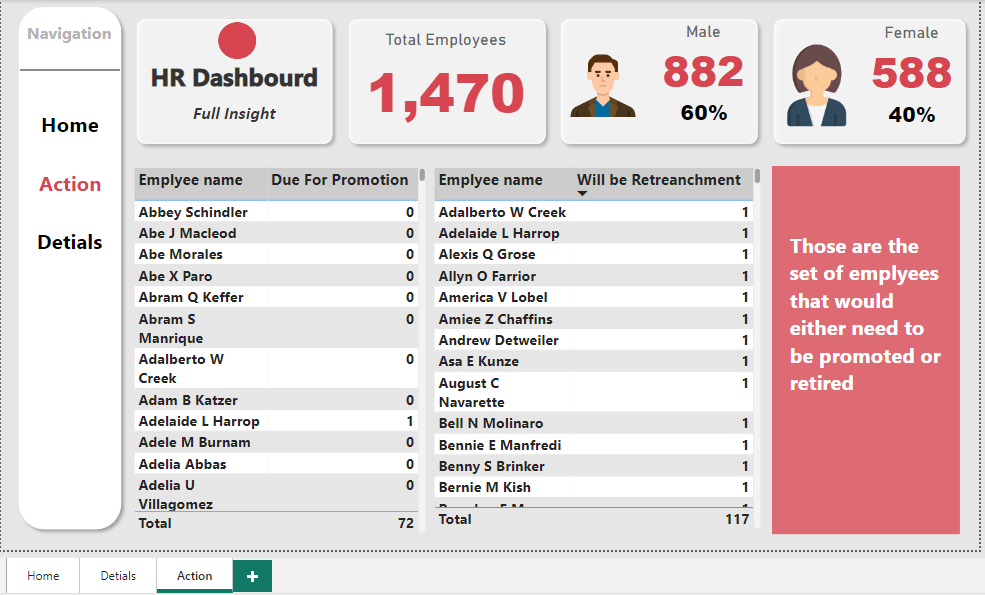

What the dashboard file says about the page in this screenshot:
{"tool":"powerbi","page":{"name":"Action","canvas":[1280,720],"ordinal":2},"visuals":[{"type":"shape","box":[14.4,0,151.9,701.7],"z":0},{"type":"shape","box":[169.2,15.2,273.8,181.4],"z":1000},{"type":"shape","box":[446.8,15.1,275.5,181.4],"z":2000},{"type":"shape","box":[724,15.1,275.5,181.4],"z":3000},{"type":"shape","box":[1002.4,15.2,268.8,181.4],"z":4000},{"type":"textbox","box":[184.8,72.2,241.9,55.4],"z":5000},{"type":"textbox","box":[184.8,127.7,241.9,55.4],"z":6000},{"type":"shape","box":[283.9,28.6,50.4,48.7],"z":7000},{"type":"card","title":"Total Employees","fields":{"Values":["All Measures.Total Emp"]},"box":[455.2,38.6,253.6,129.3],"z":8000},{"type":"card","title":"Male","fields":{"Values":["All Measures.Male"]},"box":[851.7,28.6,134.4,97.4],"z":9000},{"type":"card","title":"Male","fields":{"Values":["All Measures.% Male"]},"box":[853.3,109.2,134.4,77.3],"z":10000},{"type":"card","title":"Female","fields":{"Values":["All Measures.Female"]},"box":[1125.5,30.2,132.7,97.4],"z":11000},{"type":"card","title":"Male","fields":{"Values":["All Measures.% Female"]},"box":[1125.4,110.8,134.4,77.3],"z":12000},{"type":"image","box":[1009.4,38.9,116.6,144],"z":13000},{"type":"image","box":[734.4,33.1,106.6,152.6],"z":14000},{"type":"tableEx","fields":{"Values":["HR Analytics Data.Emplyee name","All Measures.Due For Promotion"]},"box":[169.3,214.7,392.3,487.2],"z":15000},{"type":"tableEx","fields":{"Values":["HR Analytics Data.Emplyee name","All Measures.Will be Retreanchment"]},"box":[561.5,214.7,437.7,481.7],"z":16000},{"type":"actionButton","box":[40.3,126.7,99.4,70.6],"z":17000},{"type":"actionButton","box":[40,214.3,100,48.6],"z":18000},{"type":"actionButton","box":[39.9,291.8,100.5,45.4],"z":19000},{"type":"textbox","box":[1008.9,217.5,246.4,481.7],"z":20000},{"type":"textbox","box":[1028.1,297.3,209.2,261.5],"z":21000},{"type":"textbox","box":[28.9,23.4,140.4,49.5],"z":22000},{"type":"shape","box":[24.8,78.5,130.8,26.2],"z":23000}]}

Visuals, with their boxes on the page's 1280x720 design canvas (x1, y1, x2, y2). These are canvas units, not pixel positions in the 985x595 screenshot, which may show the page scaled, cropped or inside an application window:
shape: [left=14, top=0, right=166, bottom=702]
shape: [left=169, top=15, right=443, bottom=197]
shape: [left=447, top=15, right=722, bottom=196]
shape: [left=724, top=15, right=1000, bottom=196]
shape: [left=1002, top=15, right=1271, bottom=197]
textbox: [left=185, top=72, right=427, bottom=128]
textbox: [left=185, top=128, right=427, bottom=183]
shape: [left=284, top=29, right=334, bottom=77]
"Total Employees" card: [left=455, top=39, right=709, bottom=168]
"Male" card: [left=852, top=29, right=986, bottom=126]
"Male" card: [left=853, top=109, right=988, bottom=186]
"Female" card: [left=1126, top=30, right=1258, bottom=128]
"Male" card: [left=1125, top=111, right=1260, bottom=188]
image: [left=1009, top=39, right=1126, bottom=183]
image: [left=734, top=33, right=841, bottom=186]
tableEx - HR Analytics Data.Emplyee name x All Measures.Due For Promotion: [left=169, top=215, right=562, bottom=702]
tableEx - HR Analytics Data.Emplyee name x All Measures.Will be Retreanchment: [left=562, top=215, right=999, bottom=696]
actionButton: [left=40, top=127, right=140, bottom=197]
actionButton: [left=40, top=214, right=140, bottom=263]
actionButton: [left=40, top=292, right=140, bottom=337]
textbox: [left=1009, top=218, right=1255, bottom=699]
textbox: [left=1028, top=297, right=1237, bottom=559]
textbox: [left=29, top=23, right=169, bottom=73]
shape: [left=25, top=78, right=156, bottom=105]
